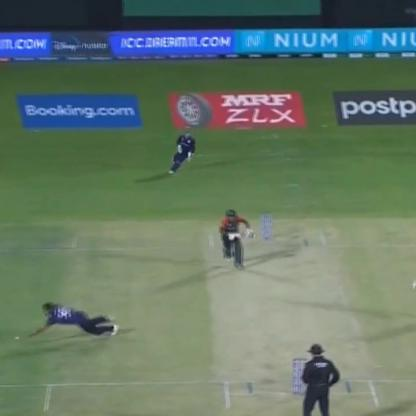ball: (11, 330, 22, 345)
pitch: (205, 217, 383, 415)
